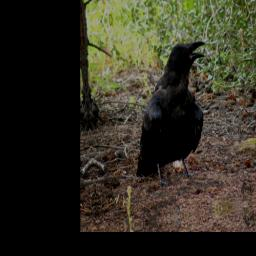Crow: (124, 37, 218, 194)
